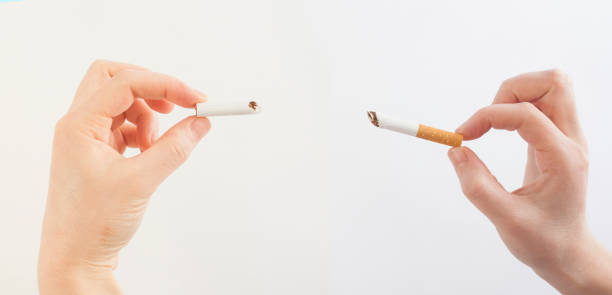cigarette: (367, 109, 463, 149), (194, 98, 260, 119)
